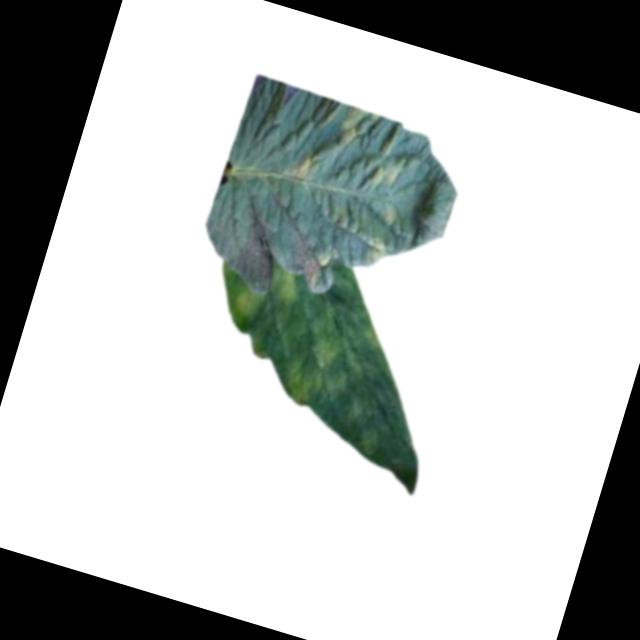Leaf_Mold: (305, 307, 361, 377), (332, 102, 383, 155), (262, 259, 309, 309), (365, 148, 409, 194), (282, 360, 324, 408), (284, 147, 323, 188), (353, 230, 392, 268), (229, 284, 265, 322), (372, 198, 405, 232)
